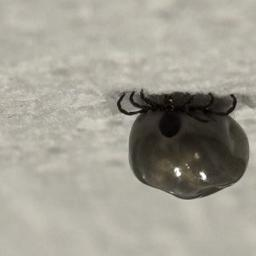Ixodes scapularis: (117, 87, 250, 200)
